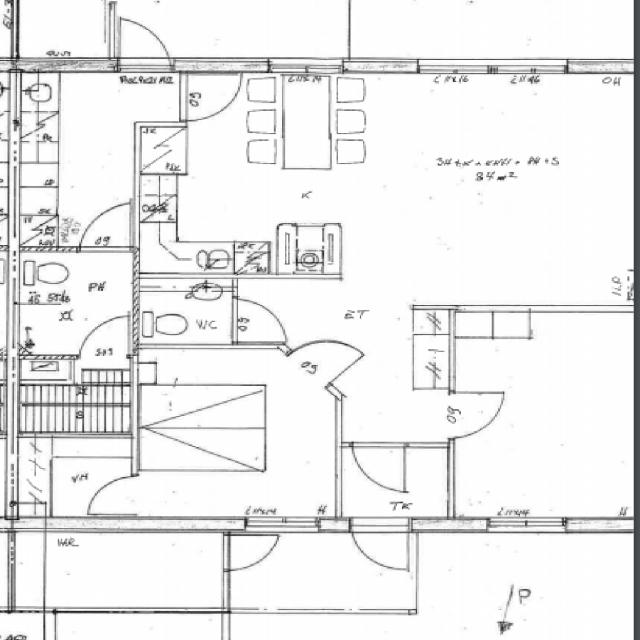door: (287, 319, 368, 387), (349, 516, 410, 584), (115, 12, 171, 73), (447, 392, 511, 438), (350, 443, 403, 493), (181, 76, 241, 120), (232, 298, 291, 342), (80, 207, 128, 254), (79, 314, 128, 360), (84, 475, 138, 514), (221, 534, 274, 571)
